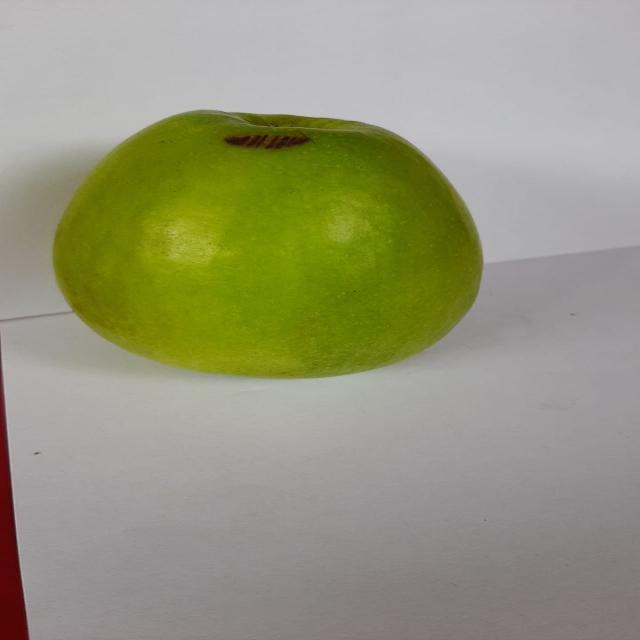50-_ripeness: (44, 98, 502, 388)
